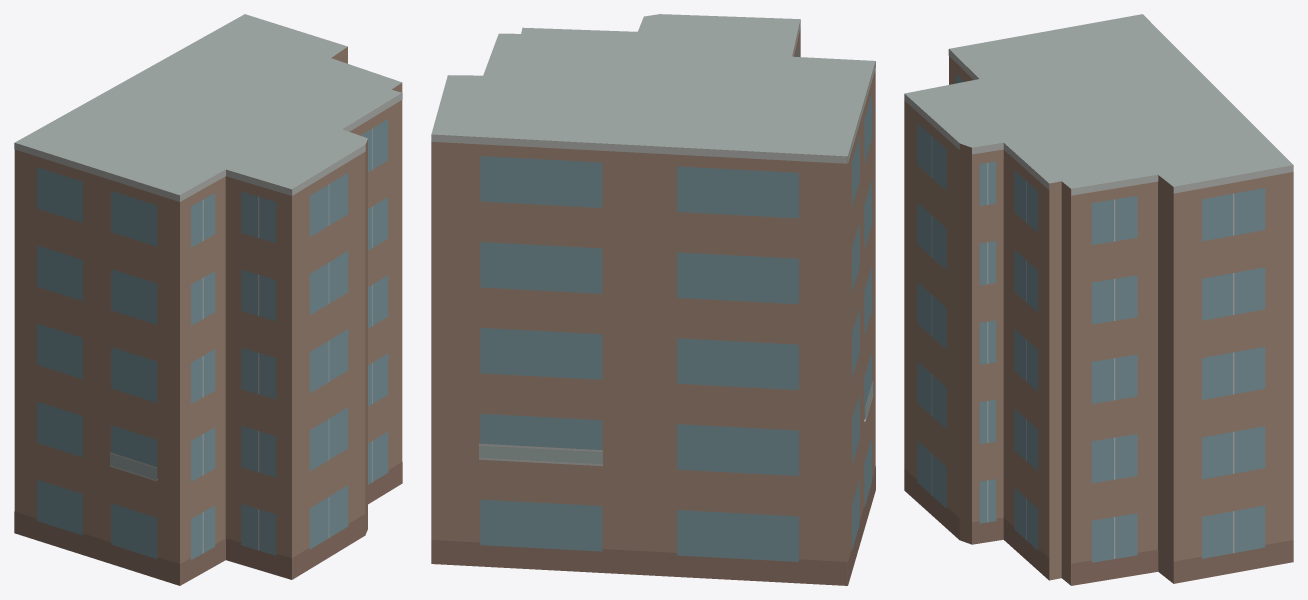
File: survey-upis-32772114.glb
3 renders of one model, left to right at view 1: azimuth 30°, elevation 25°; view 2: azimuth 150°, elevation 25°; view 3: azimuth 270°, elevation 25°, orthographic. The views are drawn at different scales.
Visible parts, largest first — view 1: survey-upis-32772114.tmp; view 2: survey-upis-32772114.tmp; view 3: survey-upis-32772114.tmp.
Part boxes in pixels (<box>): survey-upis-32772114.tmp: <box>14,14,402,585</box>; survey-upis-32772114.tmp: <box>431,14,875,585</box>; survey-upis-32772114.tmp: <box>904,14,1293,585</box>.
Size of the model in its own units: 13.52 by 14.3 by 12.72.
